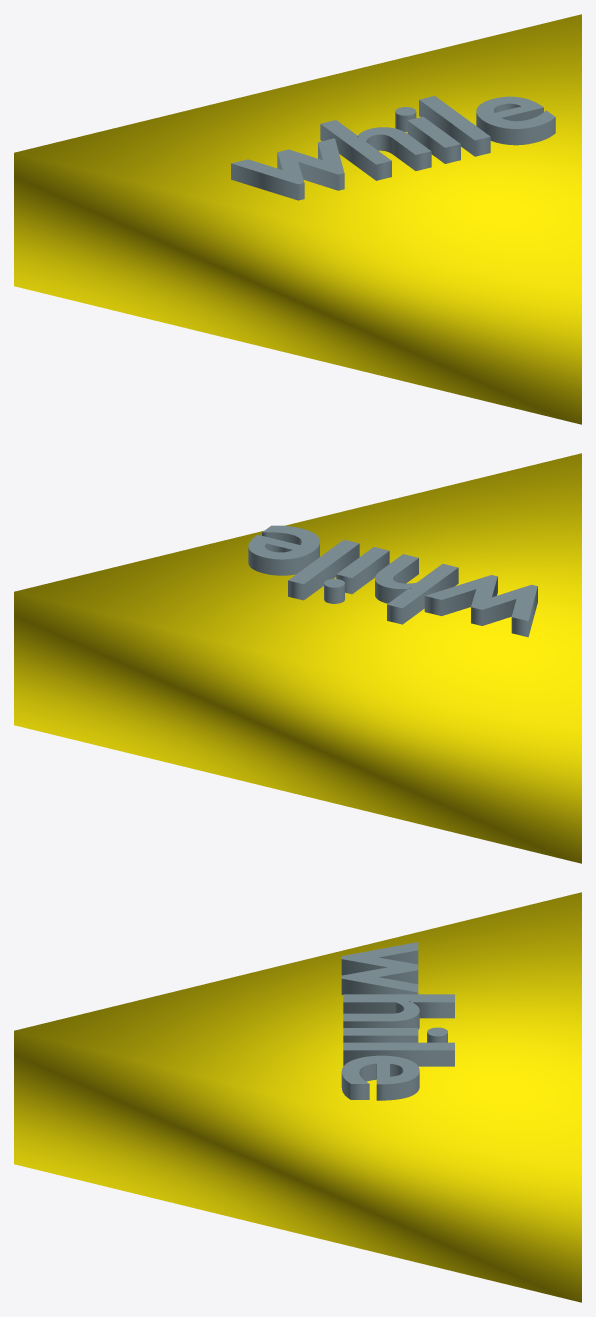
Rendered from while.glb.
3 views of the same model, one above another, from view 1: azimuth 30°, elevation 25°; view 2: azimuth 150°, elevation 25°; view 3: azimuth 270°, elevation 25° (orthographic).
Visible parts, largest first — view 1: While_Base, While_Text; view 2: While_Base, While_Text; view 3: While_Base, While_Text.
Part boxes in pixels (x1,y1,x2,y2): While_Base: (14,14,581,424); While_Text: (231,96,555,200); While_Base: (14,453,581,863); While_Text: (248,525,537,637); While_Base: (14,892,581,1302); While_Text: (341,942,454,1100).
Bounding box in the file's own units: 3.12 × 0.785 × 2.7.
